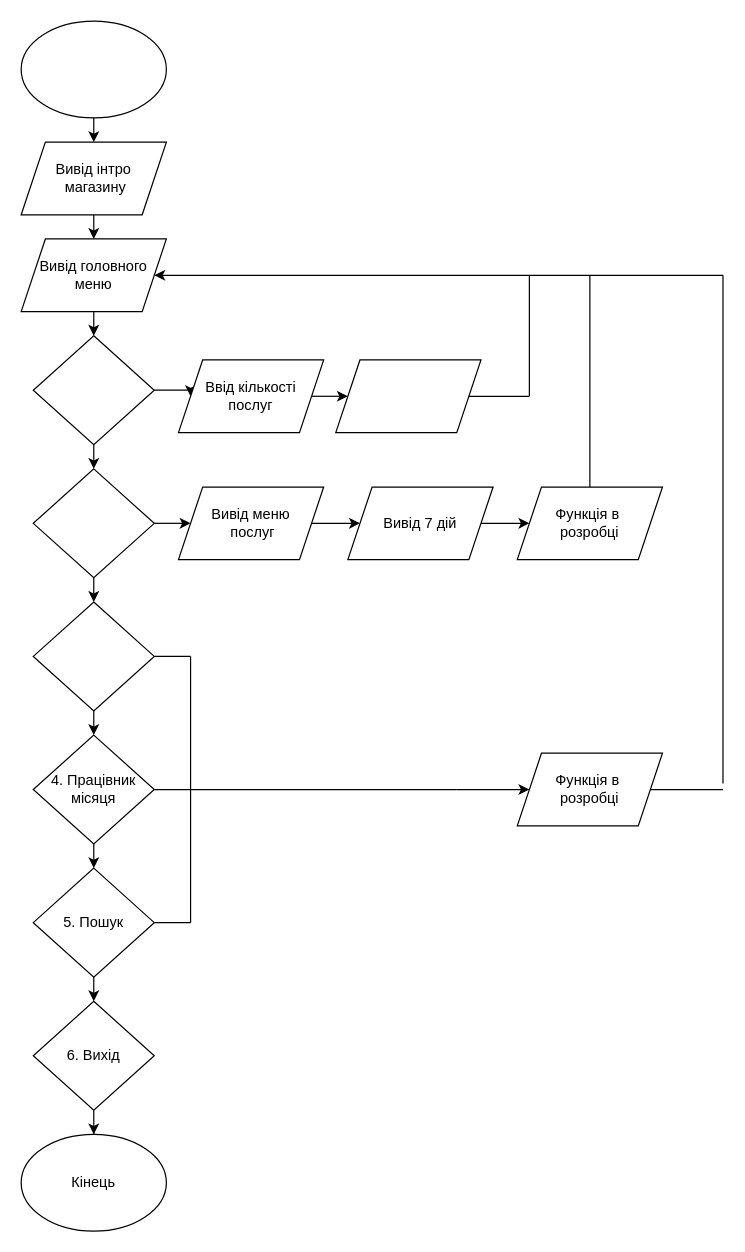
This 745x1252 diagram has some shape labels left out. The shapes that lost their labels are listed below. From the top down, each one's centre as x and y in pixels, then its label:
At (93,69): "Початок".
At (93,390): "1. Запис на прйиом".
At (408,396): "Вивід суми, та вивід суми зі знижкою".
At (93,523): "2. Меню послуг".
At (93,656): "3. Наші спеціалісти".
